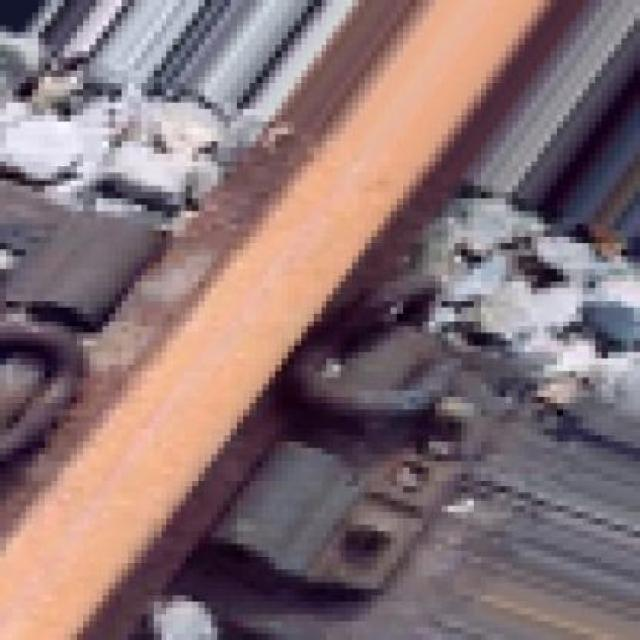defective: (7, 10, 583, 640)
